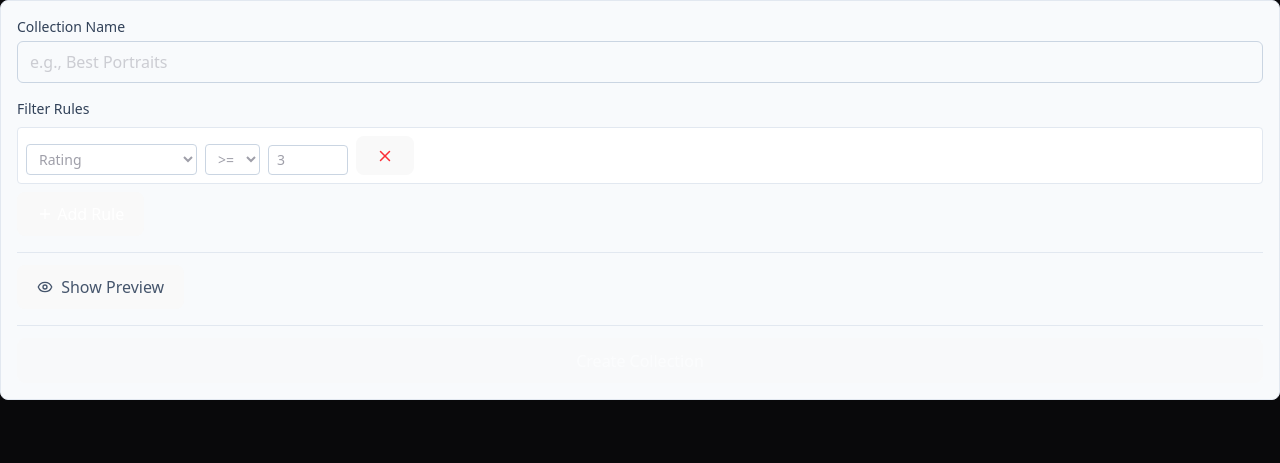
Test: SmartCollectionBuilder › should display preview count
Click the button "Show Preview" at [101, 287], box x1=17 y1=265 x2=184 y2=309
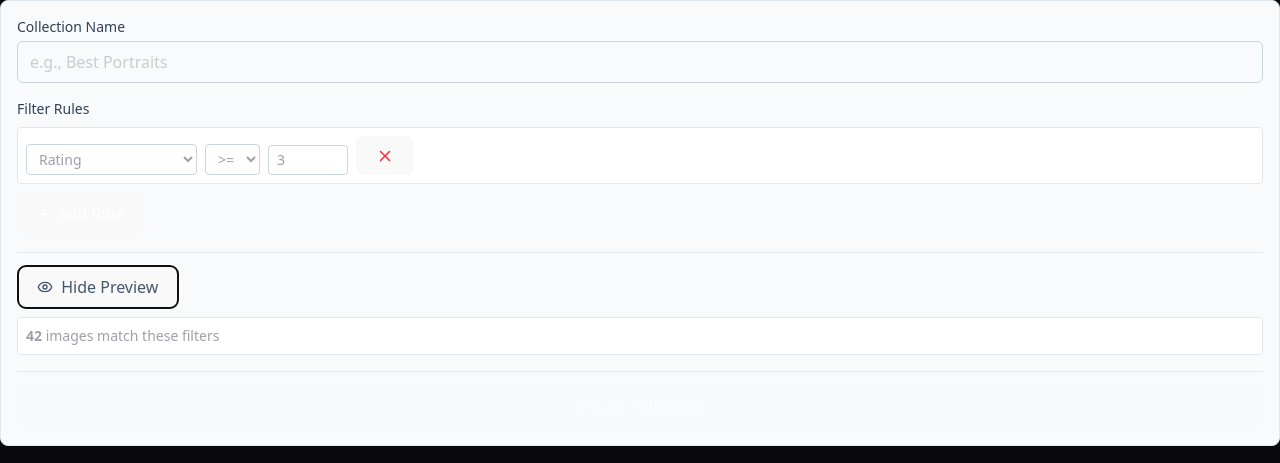
Expected: the element with class "mt-2" showing "42 images match these filters" is shown, x1=17 y1=317 x2=1263 y2=355
Expected: the element with class "mt-2" shows "42", x1=26 y1=326 x2=42 y2=345
Expected: the element with class "mt-2" shows "match", x1=42 y1=326 x2=219 y2=345
